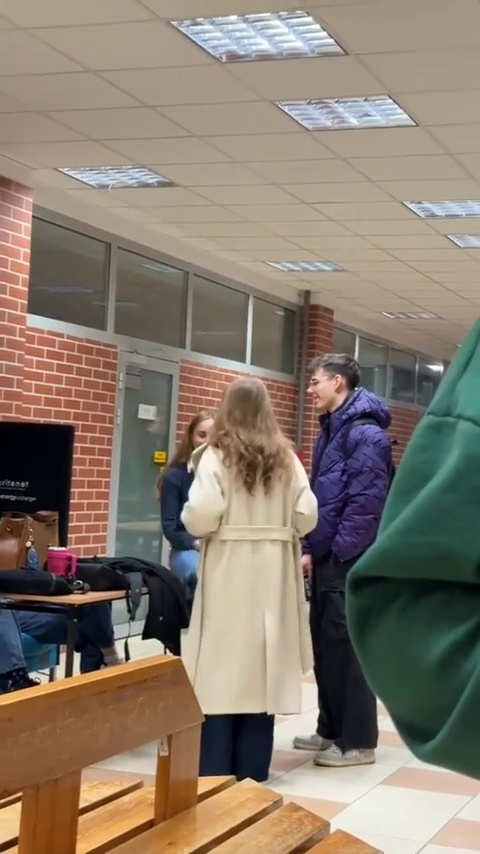no vest: (182, 370, 303, 727), (303, 347, 388, 721)
